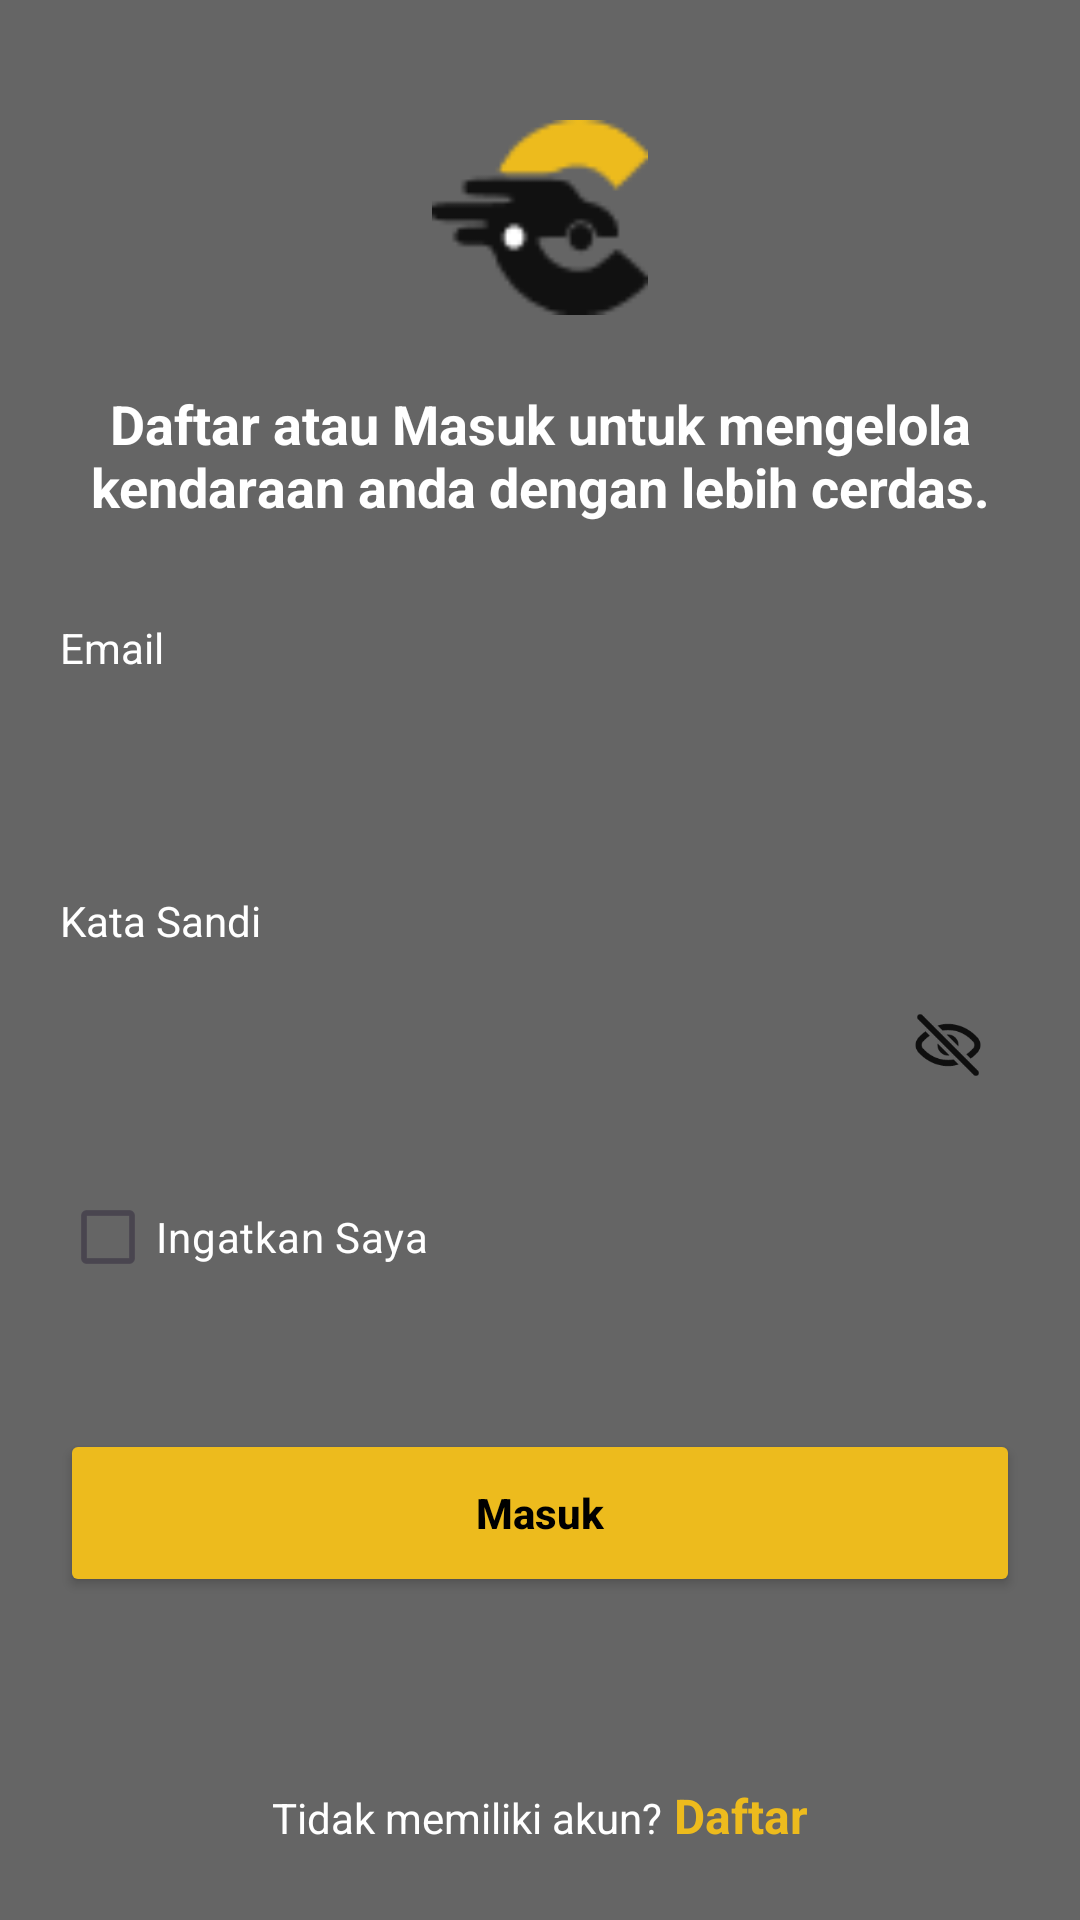

Screen size 1080*1920. Icon name, then its box in pixels as {"left": x1, "top": y1, "right": x2, "bottom": y2}:
eye off: {"left": 915, "top": 1014, "right": 981, "bottom": 1076}
